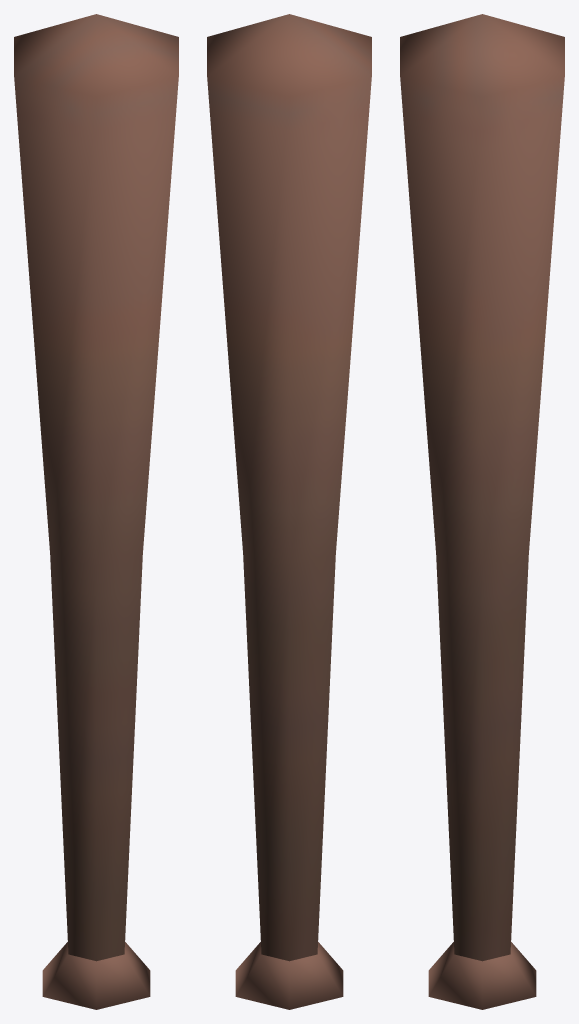
The model's file is w_baseballbat.FBX.
3 views of the same model, side by side, from view 1: azimuth 30°, elevation 25°; view 2: azimuth 150°, elevation 25°; view 3: azimuth 270°, elevation 25° (orthographic).
Visible parts, largest first — view 1: w_baseballbat; view 2: w_baseballbat; view 3: w_baseballbat.
Part boxes in pixels (x1,y1,x2,y2): w_baseballbat: (14, 14, 178, 1009); w_baseballbat: (207, 14, 371, 1009); w_baseballbat: (400, 14, 564, 1009).
Bounding box in the file's own units: 8.25 × 46.44 × 7.15.
Materials: 1 (1 with a texture image).
